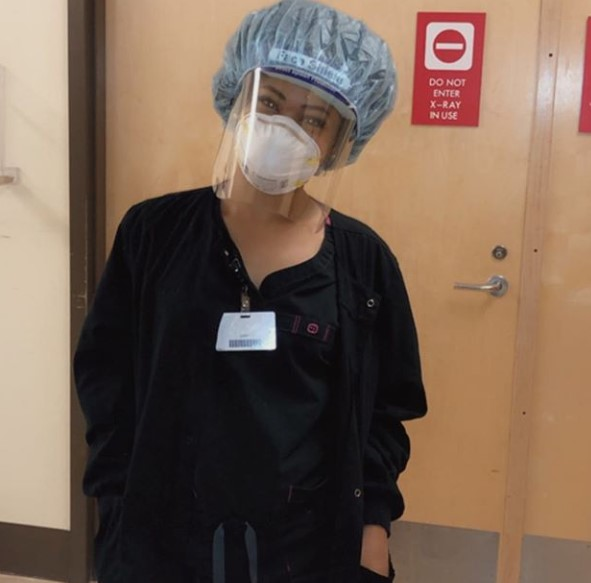face_with_mask: (211, 5, 397, 235)
